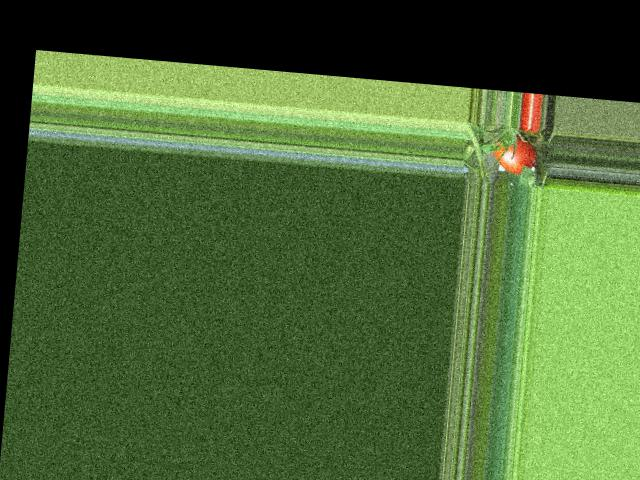tomato: (492, 135, 538, 175)
